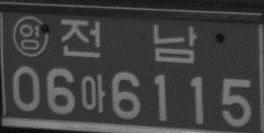0: (11, 65, 41, 113)
1: (181, 75, 212, 125), (145, 73, 174, 122)
5: (220, 77, 252, 127)
6: (45, 67, 77, 116), (109, 71, 141, 120)
아: (80, 73, 106, 113)
영: (11, 14, 49, 57)
전남_D: (58, 17, 197, 64)
